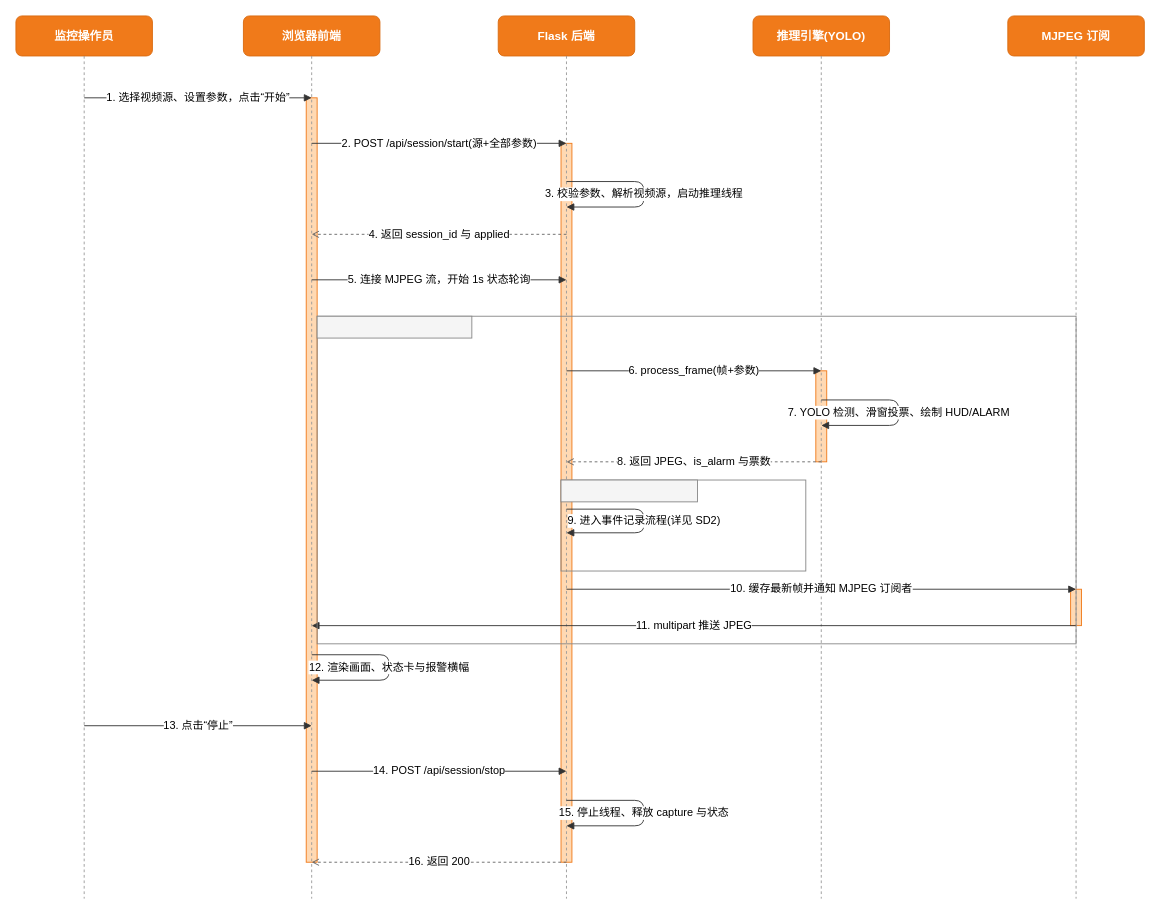
Image size: 1160x915. Some labels were removed from this diagram. Here are the shapes that lost their labels. From the top down, the box of each, then its label:
(316, 315, 472, 338): loop [ 每一帧 ]
(560, 479, 698, 502): alt [ is_alarm = true ]
